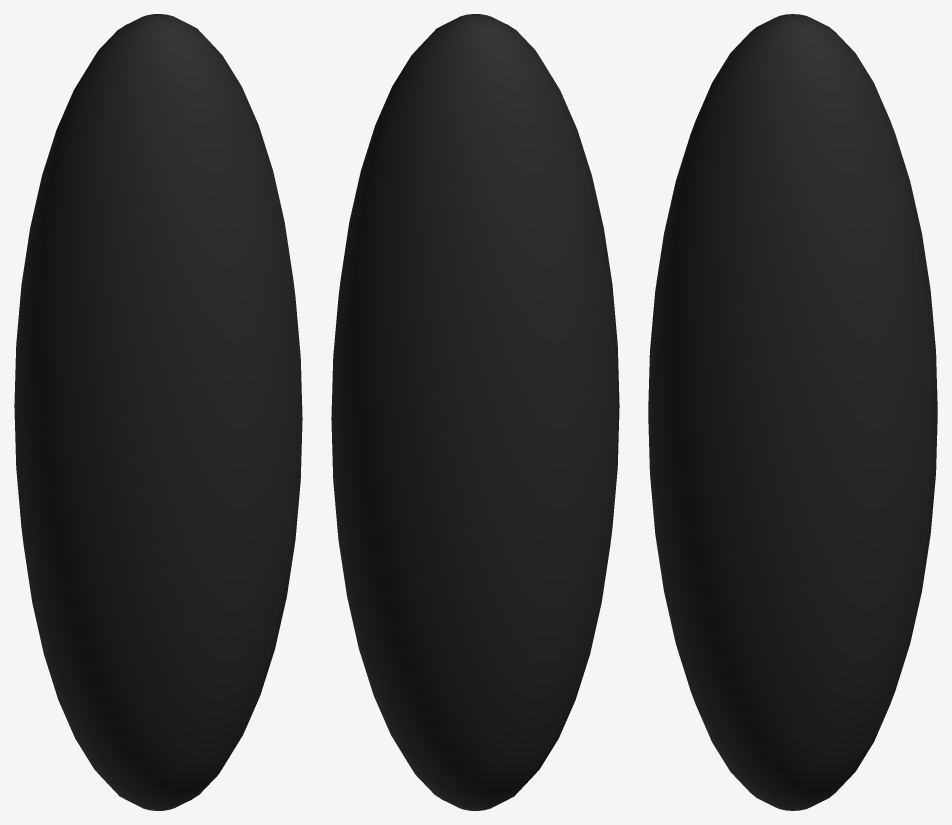
3 views of the same model, side by side, from view 1: azimuth 30°, elevation 25°; view 2: azimuth 150°, elevation 25°; view 3: azimuth 270°, elevation 25° (orthographic).
Visible parts, largest first — view 1: pSphere1; view 2: pSphere1; view 3: pSphere1.
Boxes of the visible parts, x1,y1,x2,y2 form: pSphere1: (14, 14, 302, 810); pSphere1: (331, 14, 619, 810); pSphere1: (648, 14, 937, 810).
Bounding box in the file's own units: 1 × 3 × 1.
Materials: 1 (1 with a texture image).
